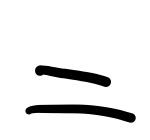eqv: (20, 62, 139, 123)
